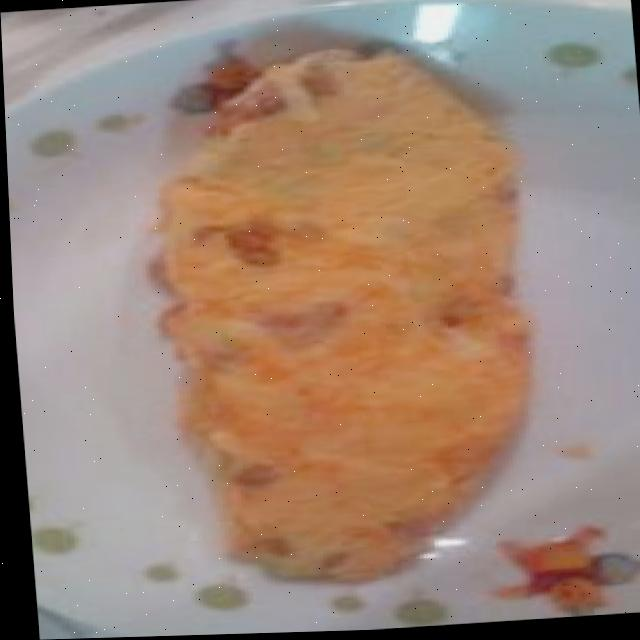鸡蛋料理: (123, 30, 524, 607)
